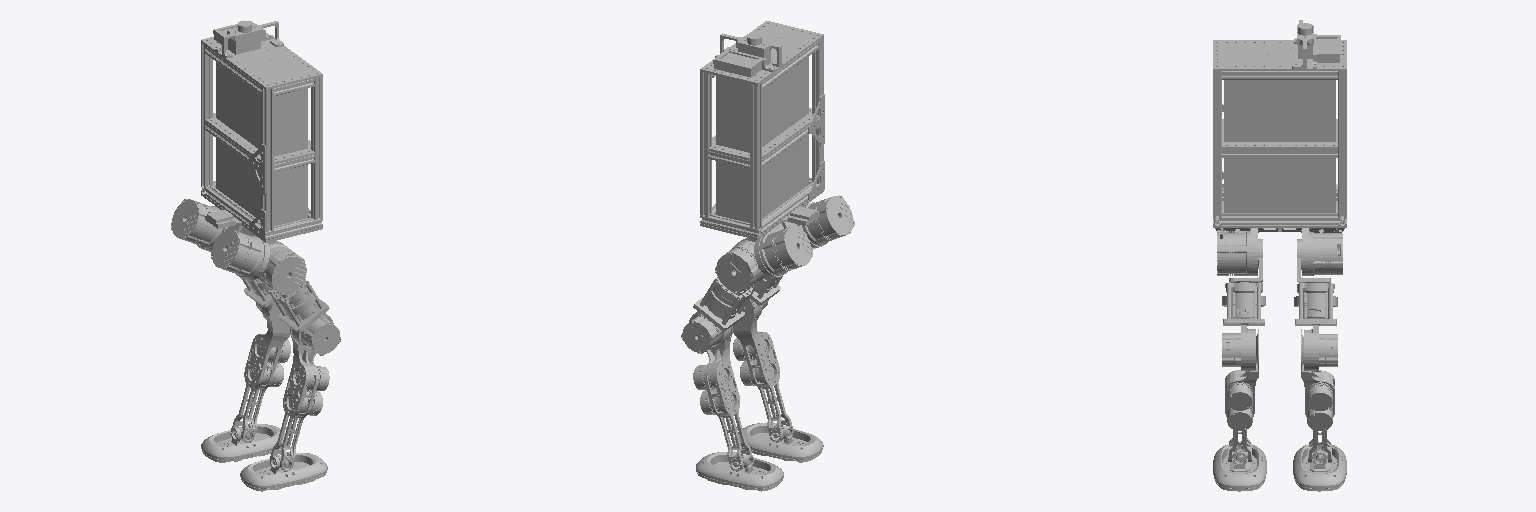
robot.urdf — p1:
<?xml version="1.0" encoding="utf-8"?>
<!-- This URDF was automatically created by SolidWorks to URDF Exporter! Originally created by Stephen Brawner (brawner@gmail.com) 
     Commit Version: 1.6.0-4-g7f85cfe  Build Version: 1.6.7995.38578
     For more information, please see http://wiki.ros.org/sw_urdf_exporter -->
<robot
  name="p1">
  <link
    name="pelvis_link">
    <inertial>
      <origin
        xyz="-0.0087270 0.0003620 0.1433290"
        rpy="0 0 0" />
      <mass
        value="20.1932167" />
      <inertia
        ixx="0.4849834"
        ixy="-0.0005915"
        ixz="-0.0601778"
        iyy="0.4146407"
        iyz="-0.0035142"
        izz="0.1637435" />
    </inertial>
    <visual>
      <origin
        xyz="0 0 0"
        rpy="0 0 0" />
      <geometry>
        <mesh
          filename="meshes/pelvis_link.STL" />
      </geometry>
      <material
        name="">
        <color
          rgba="0.75294 0.75294 0.75294 1" />
      </material>
    </visual>
    <collision>
      <origin
        xyz="0 0 0.2"
        rpy="0 0 0" />
      <geometry>
        <box size="0.15 0.30 0.35" /> 
      </geometry>
    </collision>
  </link>
  <link
    name="hip_roll_l_link">
    <inertial>
      <origin
        xyz="0.0603906 -0.0032741 0.0000676"
        rpy="0 0 0" />
      <mass
        value="1.7685006" />
      <inertia
        ixx="0.0007024"
        ixy="-0.0001150"
        ixz="-0.0000003"
        iyy="0.0015750"
        iyz="-0.0000009"
        izz="0.0014854" />
    </inertial>
    <visual>
      <origin
        xyz="0 0 0"
        rpy="0 0 0" />
      <geometry>
        <mesh
          filename="meshes/hip_roll_l_link.STL" />
      </geometry>
      <material
        name="">
        <color
          rgba="0.75294 0.75294 0.75294 1" />
      </material>
    </visual>
    <collision>
      <origin
        xyz="0 0 0"
        rpy="0 0 0" />
      <geometry>
        <mesh
          filename="meshes/hip_roll_l_link.STL" />
      </geometry>
    </collision>
  </link>
  <joint
    name="hip_roll_l_joint"
    type="revolute">
    <origin
      xyz="-0.060801 0.09 -0.062852"
      rpy="0 0.5236 0" />
    <parent
      link="pelvis_link" />
    <child
      link="hip_roll_l_link" />
    <axis
      xyz="1 0 0" />
    <limit
      lower="-3.14"
      upper="3.14"
      effort="120"
      velocity="127" />
  </joint>
  <link
    name="hip_pitch_l_link">
    <inertial>
      <origin
        xyz="2.1337E-16 0.0098528 -0.029592"
        rpy="0 0 0" />
      <mass
        value="0.33599" />
      <inertia
        ixx="0.00044638"
        ixy="0.0000000"
        ixz="0.0000000"
        iyy="0.00041533"
        iyz="0.00011603"
        izz="0.00020341" />
    </inertial>
    <visual>
      <origin
        xyz="0 0 0"
        rpy="0 0 0" />
      <geometry>
        <mesh
          filename="meshes/hip_pitch_l_link.STL" />
      </geometry>
      <material
        name="">
        <color
          rgba="0.75294 0.75294 0.75294 1" />
      </material>
    </visual>
    <collision>
      <origin
        xyz="0 0 0"
        rpy="0 0 0" />
      <geometry>
        <mesh
          filename="meshes/hip_pitch_l_link.STL" />
      </geometry>
    </collision>
  </link>
  <joint
    name="hip_pitch_l_joint"
    type="revolute">
    <origin
      xyz="0.071 -0.042 0"
      rpy="0 -1.0236 0" />
    <parent
      link="hip_roll_l_link" />
    <child
      link="hip_pitch_l_link" />
    <axis
      xyz="0 1 0" />
    <limit
      lower="-3.14"
      upper="3.14"
      effort="120"
      velocity="127" />
  </joint>
  <link
    name="hip_yaw_l_link">
    <inertial>
      <origin
        xyz="-0.0000144 0.0034483 -0.0891758"
        rpy="0 0 0" />
      <mass
        value="2.1854867" />
      <inertia
        ixx="0.0079300"
        ixy="0.0000022"
        ixz="0.0000004"
        iyy="0.0078954"
        iyz="0.0003878"
        izz="0.0024064" />
    </inertial>
    <visual>
      <origin
        xyz="0 0 0"
        rpy="0 0 0" />
      <geometry>
        <mesh
          filename="meshes/hip_yaw_l_link.STL" />
      </geometry>
      <material
        name="">
        <color
          rgba="0.752941176470588 0.752941176470588 0.752941176470588 1" />
      </material>
    </visual>
    <collision>
      <origin
        xyz="0 0 0"
        rpy="0 0 0" />
      <geometry>
        <mesh
          filename="meshes/hip_yaw_l_link.STL" />
      </geometry>
    </collision>
  </link>
  <joint
    name="hip_yaw_l_joint"
    type="revolute">
    <origin
      xyz="0 0.029 -0.065"
      rpy="0 0 0" />
    <parent
      link="hip_pitch_l_link" />
    <child
      link="hip_yaw_l_link" />
    <axis
      xyz="0 0 1" />
    <limit
      lower="-3.14"
      upper="3.14"
      effort="60"
      velocity="153" />
  </joint>
  <link
    name="knee_pitch_l_link">
    <inertial>
      <origin
        xyz="0.0084279 0.0291622 -0.1275086"
        rpy="0 0 0" />
      <mass
        value="1.1784396" />
      <inertia
        ixx="0.0053183"
        ixy="-0.0000391"
        ixz="0.0000909"
        iyy="0.0053406"
        iyz="0.0006593"
        izz="0.0009108" />
    </inertial>
    <visual>
      <origin
        xyz="0 0 0"
        rpy="0 0 0" />
      <geometry>
        <mesh
          filename="meshes/knee_pitch_l_link.STL" />
      </geometry>
      <material
        name="">
        <color
          rgba="0.75294 0.75294 0.75294 1" />
      </material>
    </visual>
    <collision>
      <origin
        xyz="0 0.035 -0.17"
        rpy="0 0 0" />
      <geometry>
        <cylinder length="0.22" radius="0.03" />
      </geometry>
    </collision>
  </link>
  <joint
    name="knee_pitch_l_joint"
    type="revolute">
    <origin
      xyz="0 -0.026 -0.143"
      rpy="0 0.8 0" />
    <parent
      link="hip_yaw_l_link" />
    <child
      link="knee_pitch_l_link" />
    <axis
      xyz="0 1 0" />
    <limit
      lower="-3.14"
      upper="3.14"
      effort="60"
      velocity="153" />
  </joint>
  <link
    name="ankle_pitch_l_link">
    <inertial>
      <origin
        xyz="-9.8012E-17 0.0244 9.992E-16"
        rpy="0 0 0" />
      <mass
        value="0.026902" />
      <inertia
        ixx="3.2762E-06"
        ixy="2.5915E-21"
        ixz="-5.2758E-21"
        iyy="2.2066E-06"
        iyz="-9.2945E-20"
        izz="4.7772E-06" />
    </inertial>
    <visual>
      <origin
        xyz="0 0 0"
        rpy="0 0 0" />
      <geometry>
        <mesh
          filename="meshes/ankle_pitch_l_link.STL" />
      </geometry>
      <material
        name="">
        <color
          rgba="0.75294 0.75294 0.75294 1" />
      </material>
    </visual>
    <collision>
      <origin
        xyz="0 0 0"
        rpy="0 0 0" />
      <geometry>
        <mesh
          filename="meshes/ankle_pitch_l_link.STL" />
      </geometry>
    </collision>
  </link>
  <joint
    name="ankle_pitch_l_joint"
    type="revolute">
    <origin
      xyz="0 0.0107 -0.30494"
      rpy="0 -0.3 0" />
    <parent
      link="knee_pitch_l_link" />
    <child
      link="ankle_pitch_l_link" />
    <axis
      xyz="0 1 0" />
    <limit
      lower="-3.14"
      upper="3.14"
      effort="34"
      velocity="83" />
  </joint>
  <link
    name="ankle_roll_l_link">
    <inertial>
      <origin
        xyz="-0.017862 0.0000033 -0.025762"
        rpy="0 0 0" />
      <mass
        value="0.5993" />
      <inertia
        ixx="0.0006223"
        ixy="0.0000000"
        ixz="0.0000043"
        iyy="0.0017068"
        iyz="0.0000000"
        izz="0.0022370" />
    </inertial>
    <visual>
      <origin
        xyz="0 0 0"
        rpy="0 0 0" />
      <geometry>
        <mesh
          filename="meshes/ankle_roll_l_link.STL" />
      </geometry>
      <material
        name="">
        <color
          rgba="0.75294 0.75294 0.75294 1" />
      </material>
    </visual>
    <collision>
      <origin
        xyz="0 0 0"
        rpy="0 0 0" />
      <geometry>
        <mesh
          filename="meshes/ankle_roll_l_link.STL" />
      </geometry>
    </collision>
  </link>
  <joint
    name="ankle_roll_l_joint"
    type="revolute">
    <origin
      xyz="0.0209 0.0244 0"
      rpy="0 0 0" />
    <parent
      link="ankle_pitch_l_link" />
    <child
      link="ankle_roll_l_link" />
    <axis
      xyz="1 0 0" />
    <limit
      lower="-3.14"
      upper="3.14"
      effort="34"
      velocity="83" />
  </joint>
  <link
    name="hip_roll_r_link">
    <inertial>
      <origin
        xyz="0.0608350 0.0032741 0.0000676"
        rpy="0 0 0" />
      <mass
        value="1.7685006" />
      <inertia
        ixx="0.0007024"
        ixy="0.0001207"
        ixz="-0.0000021"
        iyy="0.0015913"
        iyz="0.0000009"
        izz="0.0015017" />
    </inertial>
    <visual>
      <origin
        xyz="0 0 0"
        rpy="0 0 0" />
      <geometry>
        <mesh
          filename="meshes/hip_roll_r_link.STL" />
      </geometry>
      <material
        name="">
        <color
          rgba="0.75294 0.75294 0.75294 1" />
      </material>
    </visual>
    <collision>
      <origin
        xyz="0 0 0"
        rpy="0 0 0" />
      <geometry>
        <mesh
          filename="meshes/hip_roll_r_link.STL" />
      </geometry>
    </collision>
  </link>
  <joint
    name="hip_roll_r_joint"
    type="revolute">
    <origin
      xyz="-0.061763 -0.09 -0.062296"
      rpy="0 0.5236 0" />
    <parent
      link="pelvis_link" />
    <child
      link="hip_roll_r_link" />
    <axis
      xyz="1 0 0" />
    <limit
      lower="-3.14"
      upper="3.14"
      effort="120"
      velocity="127" />
  </joint>
  <link
    name="hip_pitch_r_link">
    <inertial>
      <origin
        xyz="6.24500451351651E-17 -0.00985278792915942 -0.029592358680145"
        rpy="0 0 0" />
      <mass
        value="0.335986905153369" />
      <inertia
        ixx="0.000446375158812584"
        ixy="4.81183071759896E-19"
        ixz="1.1797927806409E-18"
        iyy="0.000415329871340486"
        iyz="-0.00011602520684919"
        izz="0.000203408693930885" />
    </inertial>
    <visual>
      <origin
        xyz="0 0 0"
        rpy="0 0 0" />
      <geometry>
        <mesh
          filename="meshes/hip_pitch_r_link.STL" />
      </geometry>
      <material
        name="">
        <color
          rgba="0.752941176470588 0.752941176470588 0.752941176470588 1" />
      </material>
    </visual>
    <collision>
      <origin
        xyz="0 0 0"
        rpy="0 0 0" />
      <geometry>
        <mesh
          filename="meshes/hip_pitch_r_link.STL" />
      </geometry>
    </collision>
  </link>
  <joint
    name="hip_pitch_r_joint"
    type="revolute">
    <origin
      xyz="0.071 0.042 0"
      rpy="0 -1.0236 0" />
    <parent
      link="hip_roll_r_link" />
    <child
      link="hip_pitch_r_link" />
    <axis
      xyz="0 1 0" />
    <limit
      lower="-3.14"
      upper="3.14"
      effort="120"
      velocity="127" />
  </joint>
  <link
    name="hip_yaw_r_link">
    <inertial>
      <origin
        xyz="0.0000000 -0.0033075 -0.0891755"
        rpy="0 0 0" />
      <mass
        value="2.1854867" />
      <inertia
        ixx="0.0079321"
        ixy="0.0000020"
        ixz="-0.0000006"
        iyy="0.0078953"
        iyz="-0.0003927"
        izz="0.0024083" />
    </inertial>
    <visual>
      <origin
        xyz="0 0 0"
        rpy="0 0 0" />
      <geometry>
        <mesh
          filename="meshes/hip_yaw_r_link.STL" />
      </geometry>
      <material
        name="">
        <color
          rgba="0.75294 0.75294 0.75294 1" />
      </material>
    </visual>
    <collision>
      <origin
        xyz="0 0 0"
        rpy="0 0 0" />
      <geometry>
        <mesh
          filename="meshes/hip_yaw_r_link.STL" />
      </geometry>
    </collision>
  </link>
  <joint
    name="hip_yaw_r_joint"
    type="revolute">
    <origin
      xyz="0 -0.029 -0.065"
      rpy="0 0 0" />
    <parent
      link="hip_pitch_r_link" />
    <child
      link="hip_yaw_r_link" />
    <axis
      xyz="0 0 1" />
    <limit
      lower="-3.14"
      upper="3.14"
      effort="60"
      velocity="153" />
  </joint>
  <link
    name="knee_pitch_r_link">
    <inertial>
      <origin
        xyz="0.0084279 -0.0298826 -0.1275086"
        rpy="0 0 0" />
      <mass
        value="1.1784412" />
      <inertia
        ixx="0.0053278"
        ixy="0.0000664"
        ixz="0.0000909"
        iyy="0.0053406"
        iyz="-0.0006726"
        izz="0.0009202" />
    </inertial>
    <visual>
      <origin
        xyz="0 0 0"
        rpy="0 0 0" />
      <geometry>
        <mesh
          filename="meshes/knee_pitch_r_link.STL" />
      </geometry>
      <material
        name="">
        <color
          rgba="0.75294 0.75294 0.75294 1" />
      </material>
    </visual>
    <collision>
      <origin
        xyz="0 -0.035 -0.17"
        rpy="0 0 0" />
      <geometry>
        <cylinder length="0.22" radius="0.03" />
      </geometry>
    </collision>
  </link>
  <joint
    name="knee_pitch_r_joint"
    type="revolute">
    <origin
      xyz="0 0.026 -0.143"
      rpy="0 0.8 0" />
    <parent
      link="hip_yaw_r_link" />
    <child
      link="knee_pitch_r_link" />
    <axis
      xyz="0 1 0" />
    <limit
      lower="-3.14"
      upper="3.14"
      effort="60"
      velocity="153" />
  </joint>
  <link
    name="ankle_pitch_r_link">
    <inertial>
      <origin
        xyz="-5.2042E-18 -0.0244 -7.7716E-16"
        rpy="0 0 0" />
      <mass
        value="0.026902" />
      <inertia
        ixx="3.2762E-06"
        ixy="3.6405E-21"
        ixz="-5.1011E-21"
        iyy="2.2066E-06"
        iyz="-9.1004E-20"
        izz="4.7772E-06" />
    </inertial>
    <visual>
      <origin
        xyz="0 0 0"
        rpy="0 0 0" />
      <geometry>
        <mesh
          filename="meshes/ankle_pitch_r_link.STL" />
      </geometry>
      <material
        name="">
        <color
          rgba="0.75294 0.75294 0.75294 1" />
      </material>
    </visual>
    <collision>
      <origin
        xyz="0 0 0"
        rpy="0 0 0" />
      <geometry>
        <mesh
          filename="meshes/ankle_pitch_r_link.STL" />
      </geometry>
    </collision>
  </link>
  <joint
    name="ankle_pitch_r_joint"
    type="revolute">
    <origin
      xyz="0 -0.0107 -0.30494"
      rpy="0 -0.3 0" />
    <parent
      link="knee_pitch_r_link" />
    <child
      link="ankle_pitch_r_link" />
    <axis
      xyz="0 1 0" />
    <limit
      lower="-3.14"
      upper="3.14"
      effort="34"
      velocity="83" />
  </joint>
  <link
    name="ankle_roll_r_link">
    <inertial>
      <origin
        xyz="-0.0169 0.0000023 -0.026318"
        rpy="0 0 0" />
      <mass
        value="0.5993" />
      <inertia
        ixx="0.0006223"
        ixy="-0.0000001"
        ixz="0.0000043"
        iyy="0.0017068"
        iyz="0.0000000"
        izz="0.0022370" />
    </inertial>
    <visual>
      <origin
        xyz="0 0 0"
        rpy="0 0 0" />
      <geometry>
        <mesh
          filename="meshes/ankle_roll_r_link.STL" />
      </geometry>
      <material
        name="">
        <color
          rgba="0.75294 0.75294 0.75294 1" />
      </material>
    </visual>
    <collision>
      <origin
        xyz="0 0 0"
        rpy="0 0 0" />
      <geometry>
        <mesh
          filename="meshes/ankle_roll_r_link.STL" />
      </geometry>
    </collision>
  </link>
  <joint
    name="ankle_roll_r_joint"
    type="revolute">
    <origin
      xyz="0.0209 -0.0244 0"
      rpy="0 0 0" />
    <parent
      link="ankle_pitch_r_link" />
    <child
      link="ankle_roll_r_link" />
    <axis
      xyz="1 0 0" />
    <limit
      lower="-3.14"
      upper="3.14"
      effort="34"
      velocity="83" />
  </joint>
</robot>

--- What the picture shows (computed from the rendered views, not written in the file) ---
Views: 3 orthographic renders of the robot side by side, from view 1: azimuth 30°, elevation 25°; view 2: azimuth 150°, elevation 25°; view 3: azimuth 270°, elevation 25°.
Model p1 with 13 links and 12 joints (12 revolute), rooted at pelvis_link, posed all joints at 0.
Visible links, largest first — view 1: pelvis_link, knee_pitch_l_link, knee_pitch_r_link, hip_yaw_r_link, ankle_roll_r_link, ankle_roll_l_link, hip_roll_r_link, hip_yaw_l_link; view 2: pelvis_link, knee_pitch_r_link, knee_pitch_l_link, hip_yaw_l_link, ankle_roll_l_link, ankle_roll_r_link, hip_roll_l_link, hip_yaw_r_link; view 3: pelvis_link, hip_yaw_r_link, hip_yaw_l_link, knee_pitch_l_link, knee_pitch_r_link, ankle_roll_r_link, ankle_roll_l_link, hip_roll_r_link, hip_roll_l_link.
Link boxes in pixels (x1=…): pelvis_link: x1=171, y1=20, x2=322, y2=280; knee_pitch_l_link: x1=232, y1=302, x2=290, y2=442; knee_pitch_r_link: x1=270, y1=327, x2=329, y2=471; hip_yaw_r_link: x1=268, y1=279, x2=340, y2=355; ankle_roll_r_link: x1=240, y1=452, x2=327, y2=491; ankle_roll_l_link: x1=201, y1=423, x2=287, y2=462; hip_roll_r_link: x1=256, y1=241, x2=306, y2=293; hip_yaw_l_link: x1=241, y1=278, x2=273, y2=320; pelvis_link: x1=700, y1=21, x2=854, y2=277; knee_pitch_r_link: x1=733, y1=299, x2=792, y2=442; knee_pitch_l_link: x1=693, y1=326, x2=752, y2=471; hip_yaw_l_link: x1=681, y1=277, x2=754, y2=353; ankle_roll_l_link: x1=696, y1=451, x2=783, y2=491; ankle_roll_r_link: x1=735, y1=422, x2=823, y2=462; hip_roll_l_link: x1=715, y1=238, x2=773, y2=292; hip_yaw_r_link: x1=750, y1=276, x2=782, y2=318; pelvis_link: x1=1213, y1=20, x2=1346, y2=232; hip_yaw_r_link: x1=1222, y1=282, x2=1265, y2=370; hip_yaw_l_link: x1=1294, y1=283, x2=1337, y2=370; knee_pitch_l_link: x1=1301, y1=329, x2=1334, y2=462; knee_pitch_r_link: x1=1225, y1=329, x2=1258, y2=461; ankle_roll_r_link: x1=1213, y1=444, x2=1266, y2=491; ankle_roll_l_link: x1=1293, y1=444, x2=1346, y2=491; hip_roll_r_link: x1=1217, y1=228, x2=1257, y2=275; hip_roll_l_link: x1=1302, y1=228, x2=1342, y2=275.
Size in the robot's own frame: 0.3055 by 0.29 by 1.05 metres.
Meshes: 13 distinct files referenced, 13 mesh visuals loaded (13 binary STL).
